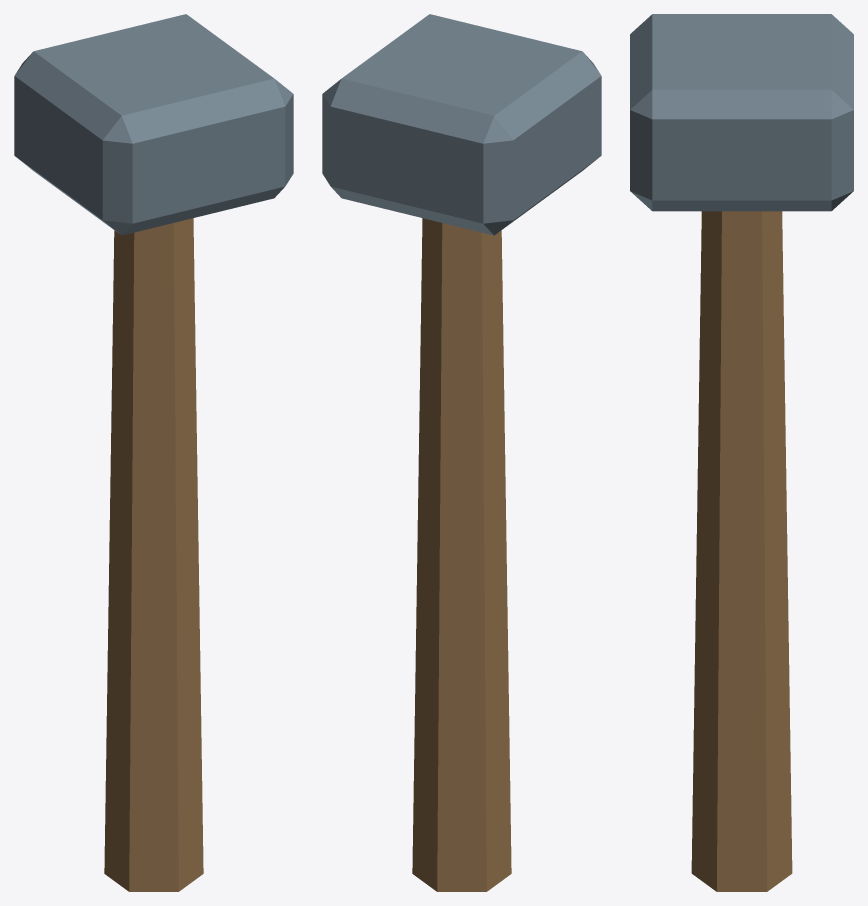
File: enfeite_tocha.glb
The picture shows the model from 3 angles, left to right: view 1: azimuth 30°, elevation 25°; view 2: azimuth 150°, elevation 25°; view 3: azimuth 270°, elevation 25°; orthographic projection.
Parts seen in each view (by area): view 1: deserto_enfeite_tocha; view 2: deserto_enfeite_tocha; view 3: deserto_enfeite_tocha.
Part boxes in pixels (left/top/right/bottom): deserto_enfeite_tocha: left=14, top=14, right=293, bottom=891; deserto_enfeite_tocha: left=322, top=14, right=601, bottom=891; deserto_enfeite_tocha: left=630, top=14, right=853, bottom=891.
Bounding box in the file's own units: 0.2 × 0.81 × 0.2.
